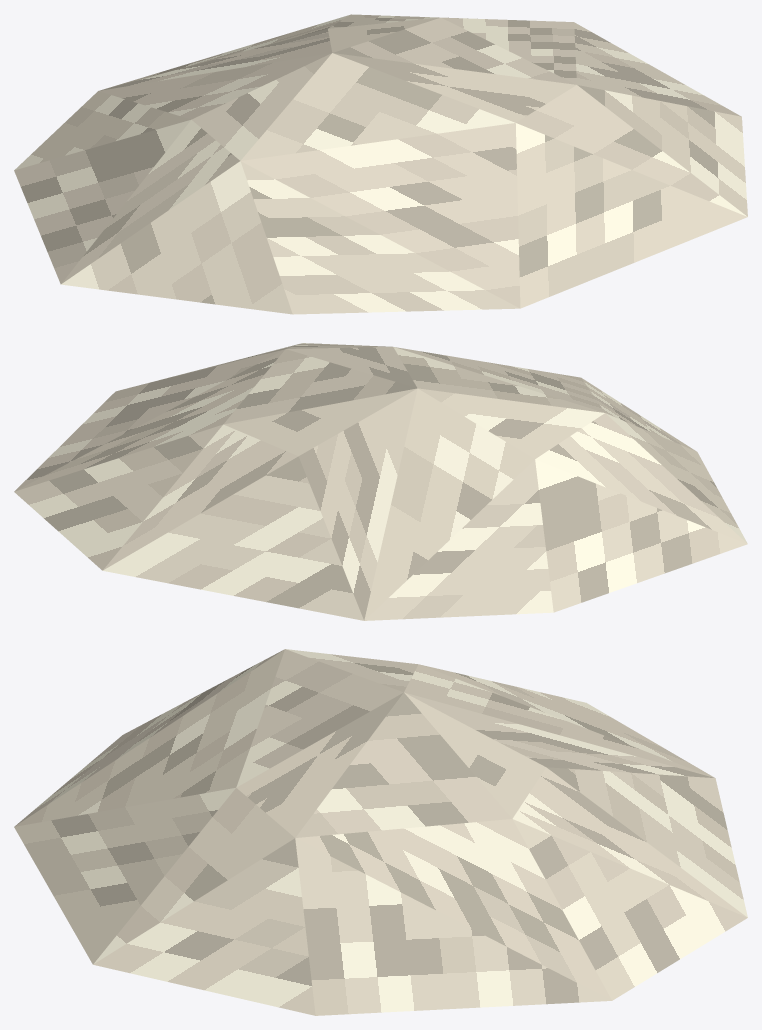
Rendered from flour.glb.
3 views of the same model, one above another, from view 1: azimuth 30°, elevation 25°; view 2: azimuth 150°, elevation 25°; view 3: azimuth 270°, elevation 25° (orthographic). The views are drawn at different scales.
Visible parts, largest first — view 1: block_loose dry ingredients; view 2: block_loose dry ingredients; view 3: block_loose dry ingredients.
Part boxes in pixels (left/top/right/bottom): block_loose dry ingredients: left=14, top=14, right=747, bottom=314; block_loose dry ingredients: left=14, top=343, right=747, bottom=620; block_loose dry ingredients: left=14, top=649, right=747, bottom=1015.
Size of the model in its own units: 0.0608 by 0.0105 by 0.053.
1 material, 1 textured.
